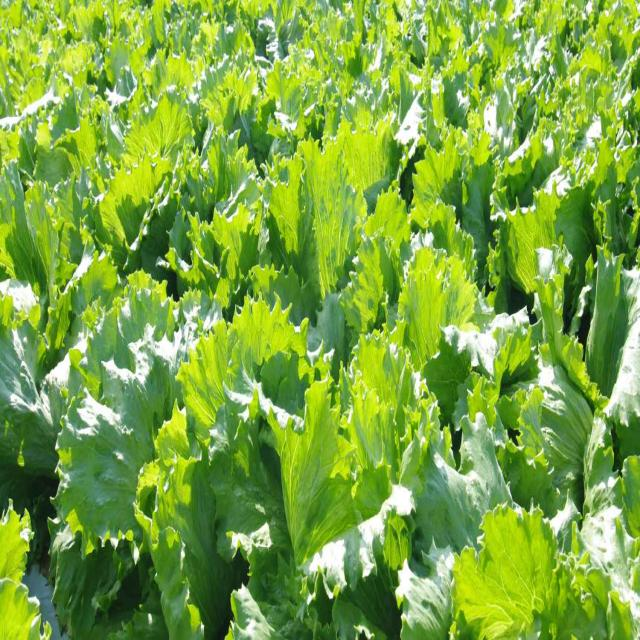Lettuce head: (457, 259, 604, 503), (284, 339, 425, 593), (122, 300, 266, 547), (532, 33, 640, 221), (164, 133, 268, 298), (274, 0, 376, 143)
